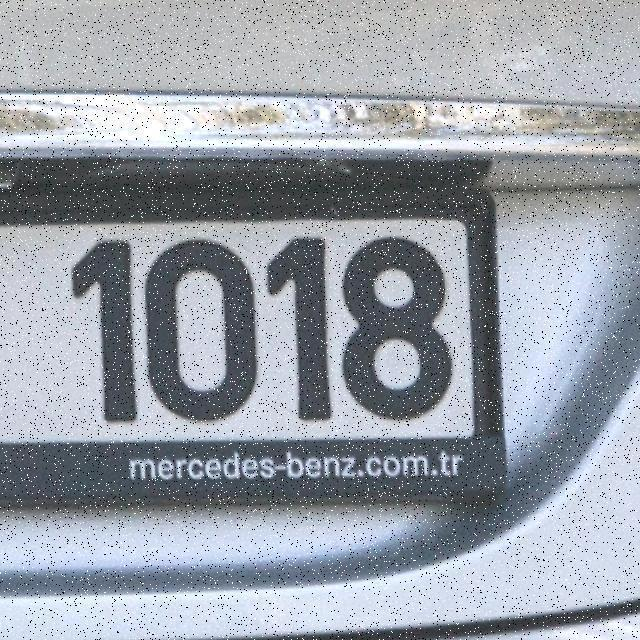license_plate: (0, 158, 524, 505)
